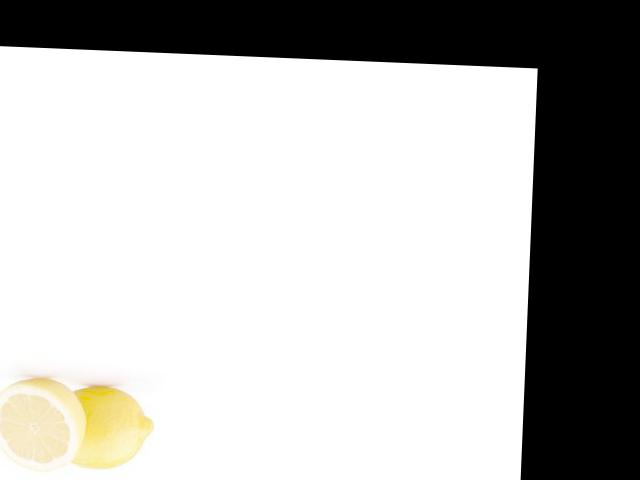lemon: (54, 376, 160, 475)
